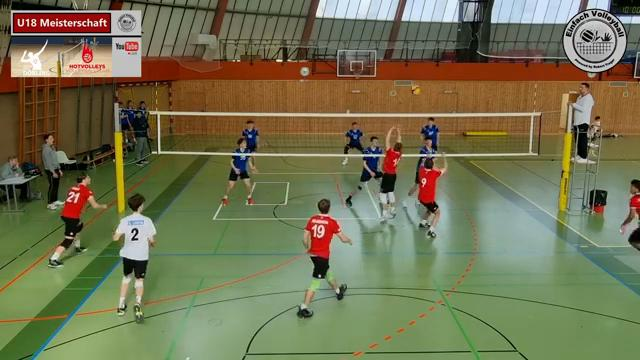Player: (297, 199, 352, 317), (48, 174, 106, 267), (113, 194, 155, 322), (345, 136, 382, 206), (418, 156, 447, 237), (222, 138, 255, 204), (408, 137, 435, 197), (620, 179, 639, 233), (421, 117, 440, 151), (242, 120, 258, 152), (342, 157, 347, 165)
Set: (374, 124, 399, 227)
ball: (411, 85, 421, 96)
